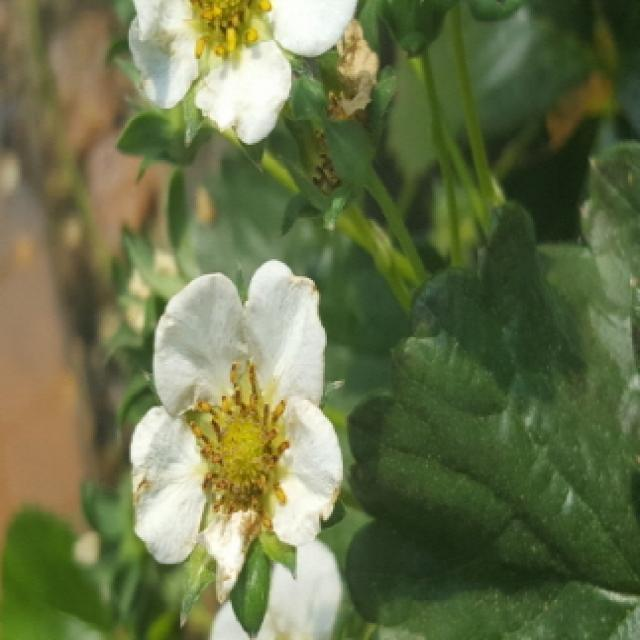Blossom Blight: (179, 352, 298, 543), (182, 0, 276, 66)
